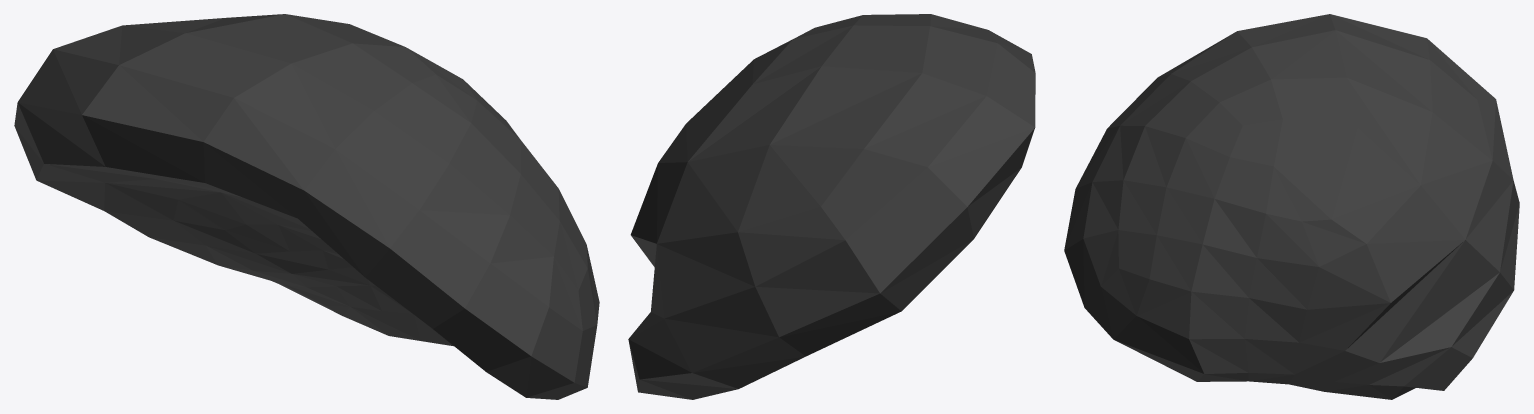
The model's file is RHL_femur1.glb.
3 renders of one model, left to right at view 1: azimuth 30°, elevation 25°; view 2: azimuth 150°, elevation 25°; view 3: azimuth 270°, elevation 25°, orthographic. The views are drawn at different scales.
Parts seen in each view (by area): view 1: RHL_femur1; view 2: RHL_femur1; view 3: RHL_femur1.
Part boxes in pixels (box(x1,y1,x2,y2)): RHL_femur1: box(14, 14, 599, 399); RHL_femur1: box(628, 14, 1035, 399); RHL_femur1: box(1064, 14, 1519, 399).
Size of the model in its own units: 8.89 by 7.71 by 11.21.
Materials: 1 (1 with a texture image).
